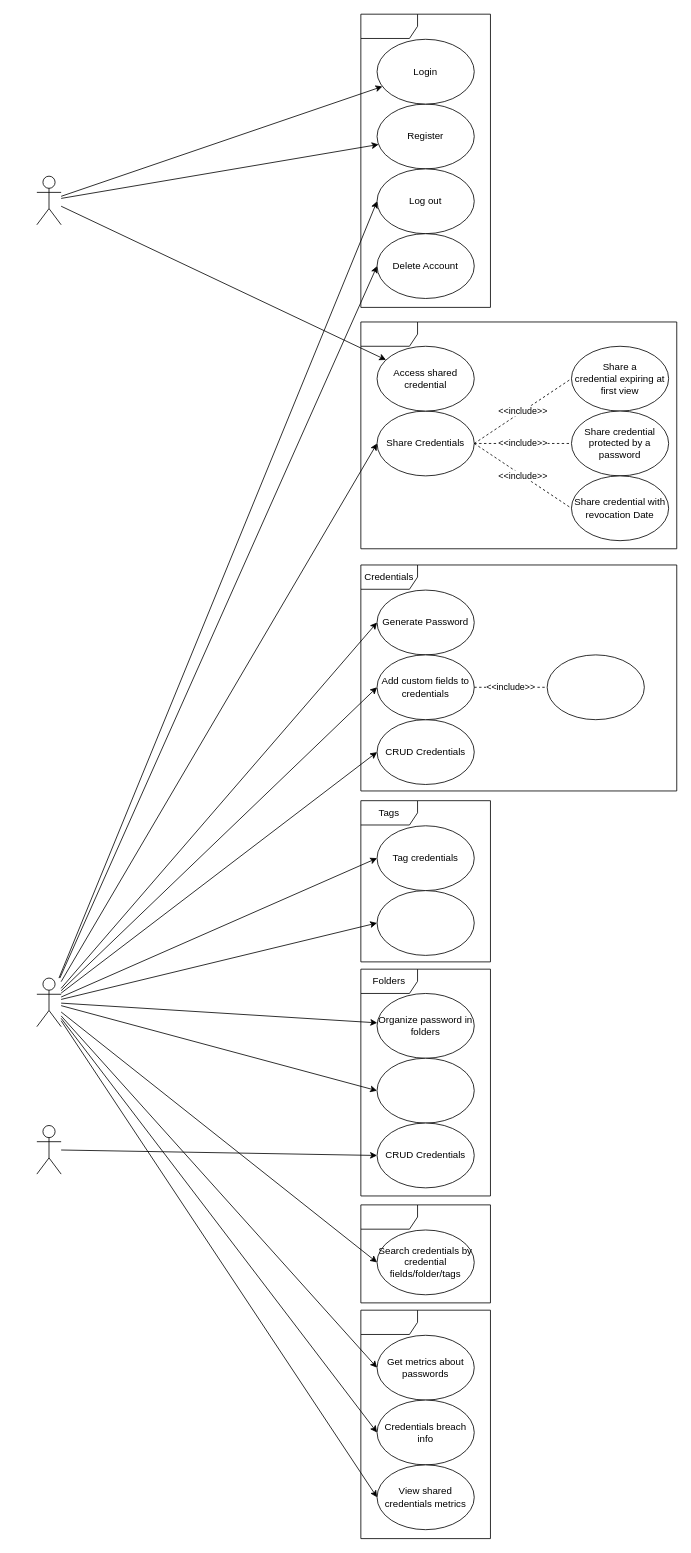
Some shapes in this 691 by 1553 pixel diagram are drawn without their labels. The shapes that lost their labels are listed below. From the top down, each one's centre as x and y in pixels, then its label:
point (425, 160): User
point (48, 200): Guest User
point (518, 435): Sharing
point (595, 687): Store notes
point (425, 922): CRUD Tags
point (48, 1002): Connected User
point (425, 1090): CRUD Folders
point (48, 1149): Folder Admin
point (425, 1253): Search
point (425, 1424): Metrics
